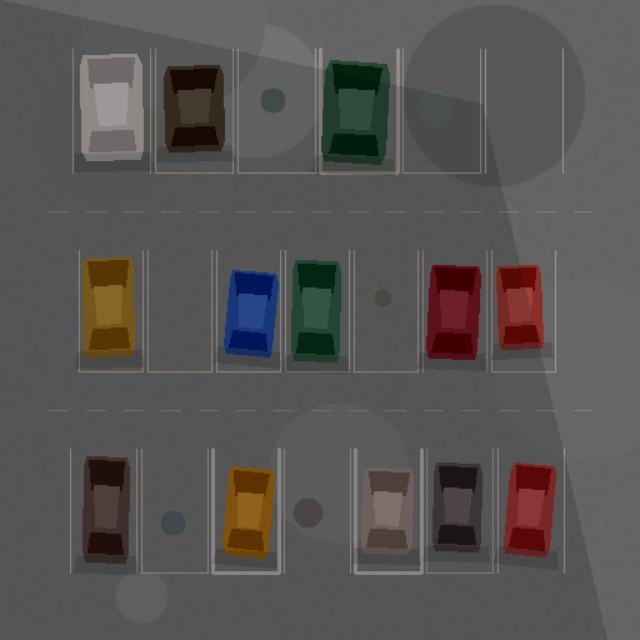space-empty: (402, 49, 480, 173), (238, 49, 315, 173), (485, 49, 562, 173), (141, 449, 208, 573), (284, 449, 350, 573), (147, 250, 211, 371), (354, 250, 417, 371)
space-occupied: (72, 49, 150, 173), (320, 49, 398, 173), (155, 49, 232, 173), (212, 449, 279, 573), (70, 449, 136, 573), (355, 449, 421, 573), (426, 449, 492, 573), (498, 449, 564, 573), (79, 250, 143, 371), (216, 250, 280, 371), (285, 250, 349, 371), (491, 250, 555, 371), (423, 250, 486, 371)
